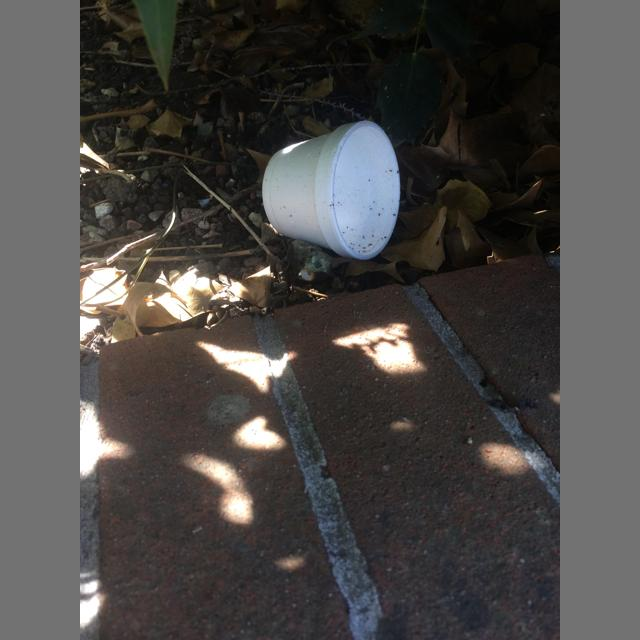litter: (262, 121, 401, 260)
